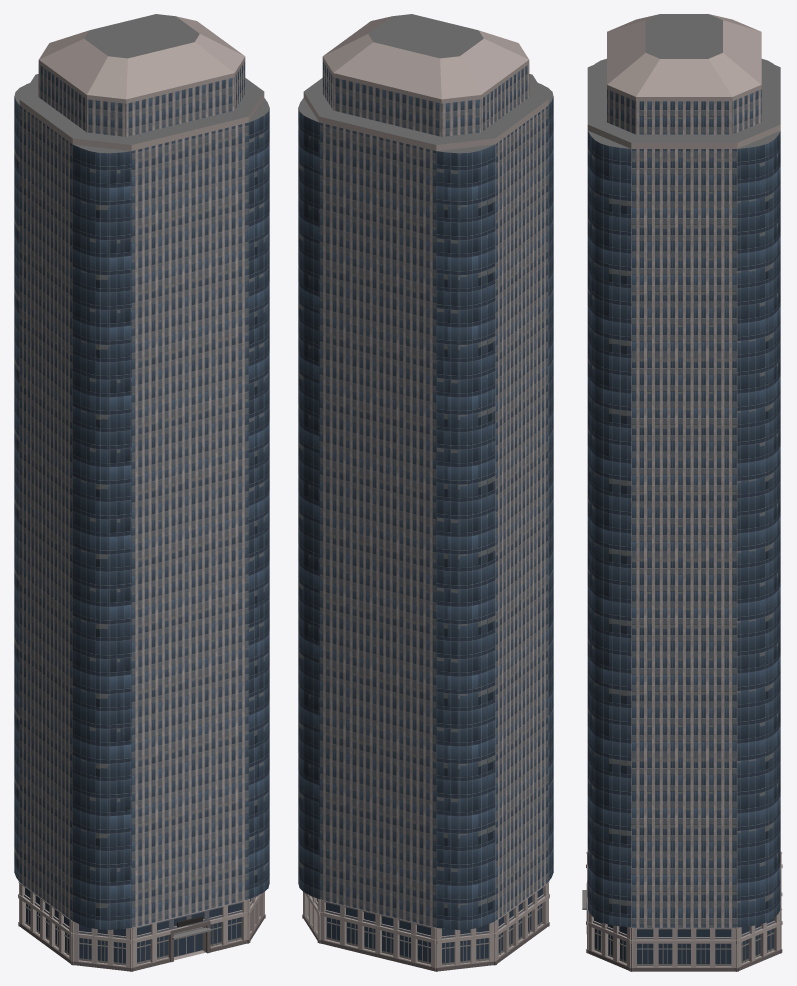
File: us_bank_centre.glb
The picture shows the model from 3 angles, left to right: view 1: azimuth 30°, elevation 25°; view 2: azimuth 150°, elevation 25°; view 3: azimuth 270°, elevation 25°; orthographic projection.
Parts seen in each view (by area): view 1: us_bank_centre; view 2: us_bank_centre; view 3: us_bank_centre.
Boxes of the visible parts, x1,y1,x2,y2 form: us_bank_centre: [14, 14, 269, 971]; us_bank_centre: [298, 14, 553, 971]; us_bank_centre: [582, 14, 782, 971].
Bounding box in the file's own units: 46.69 × 203 × 41.46.
Materials: 3 (3 with a texture image).
